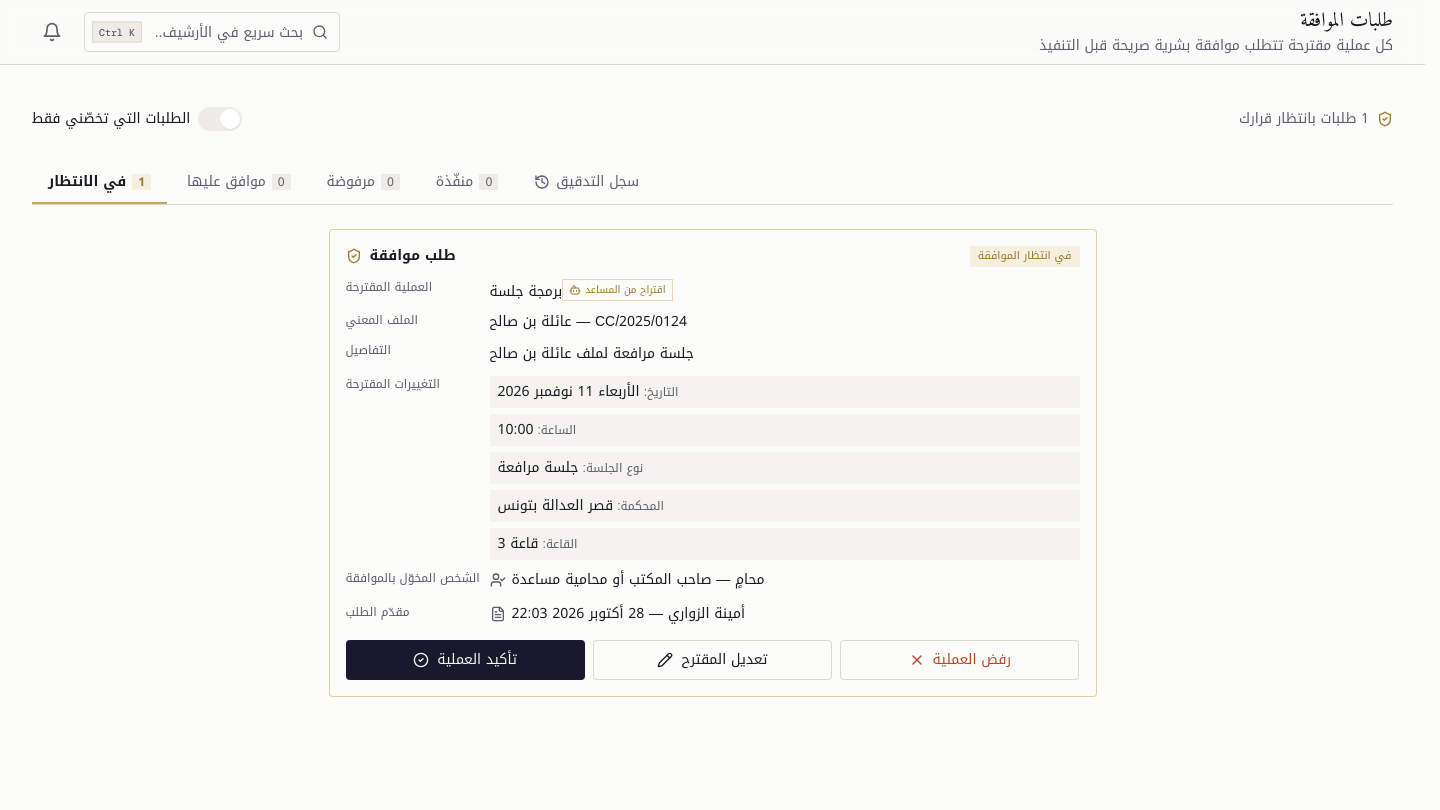
Test: «طلبات الموافقة» page › lets an authorised lawyer approve and execute, showing the verified result
Expected: the text "في انتظار الموافقة" is shown, [970,246,1080,266]
Expected: the text "اقتراح من المساعد" is shown, [562,278,673,300]
Click the button "تأكيد العملية" at coordinates (465, 660), box [346,640,585,680]
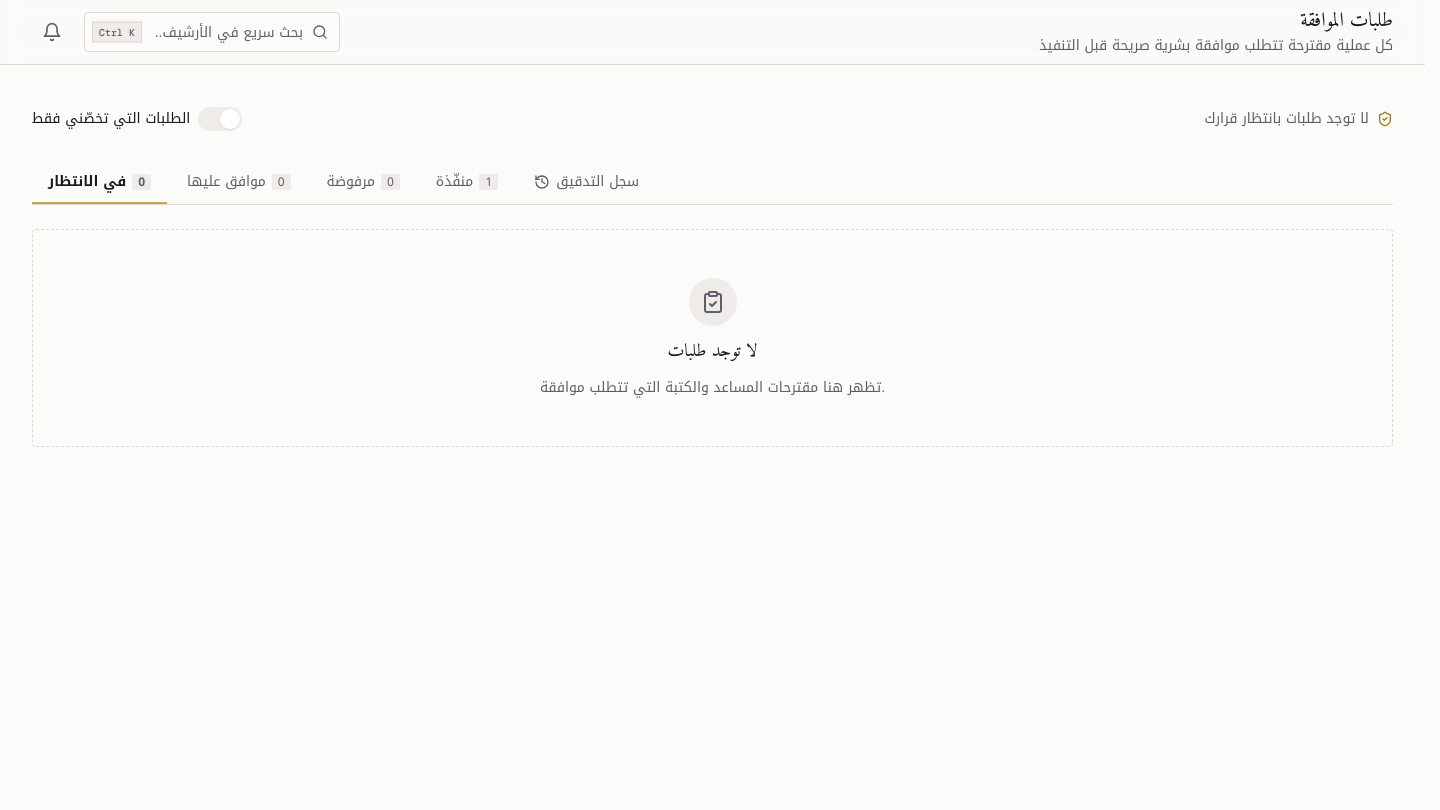
Click the tab "منفّذة 1" at coordinates (467, 182), box [420,162,514,204]
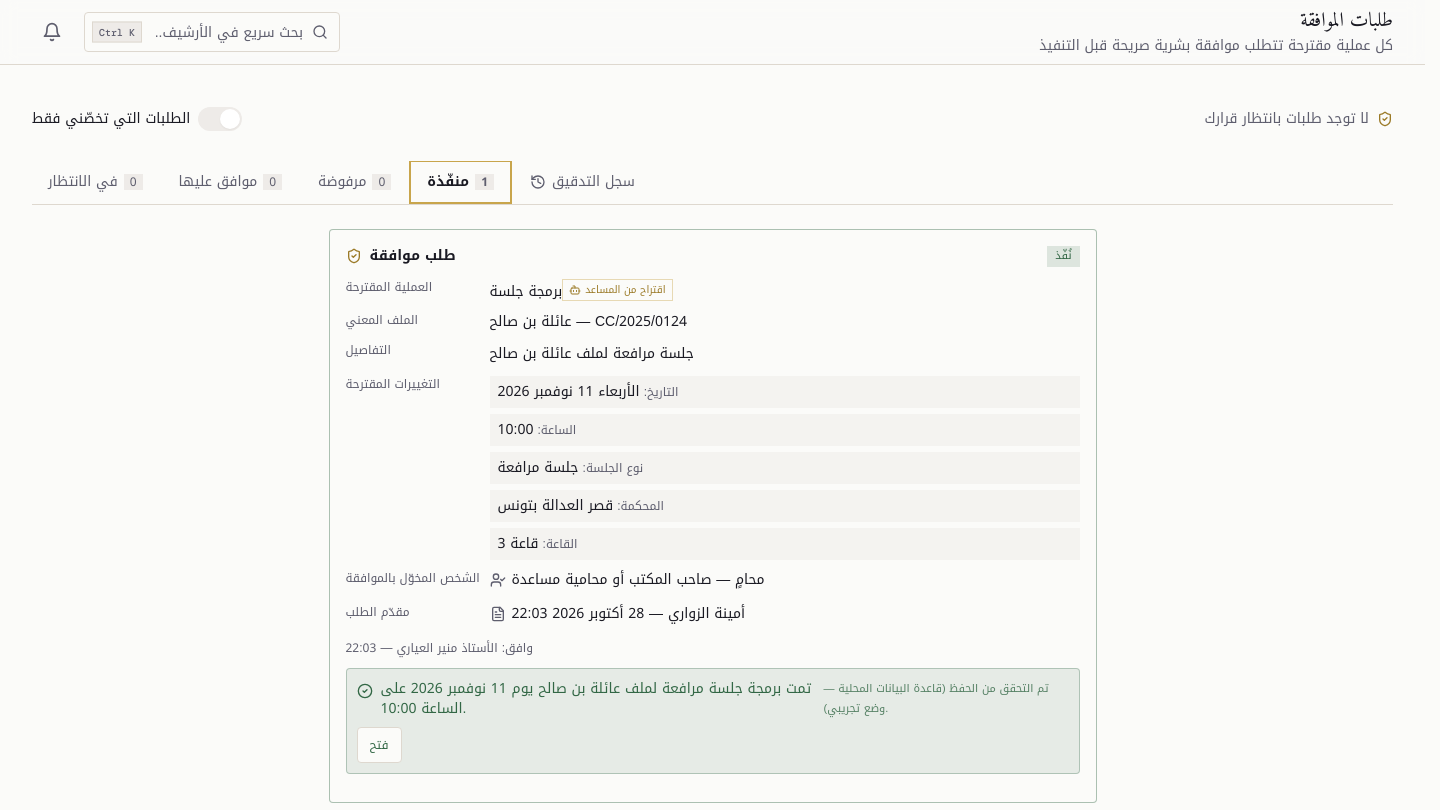
Expected: the text "تمت برمجة جلسة مرافعة" is shown, [380,674,811,722]
